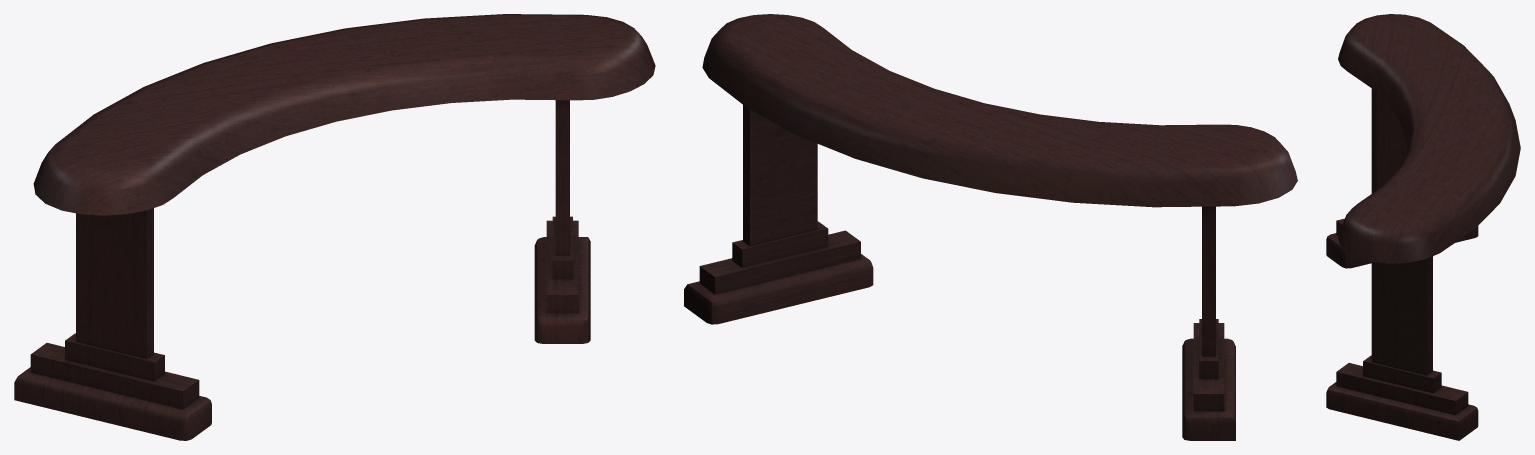
Rendered from NNJ0810007.fbx.
The picture shows the model from 3 angles, left to right: view 1: azimuth 30°, elevation 25°; view 2: azimuth 150°, elevation 25°; view 3: azimuth 270°, elevation 25°; orthographic projection. The views are drawn at different scales.
Parts seen in each view (by area): view 1: smNNJ0810007; view 2: smNNJ0810007; view 3: smNNJ0810007.
Boxes of the visible parts, bbox=[...] form: smNNJ0810007: bbox=[14, 14, 655, 440]; smNNJ0810007: bbox=[684, 14, 1297, 440]; smNNJ0810007: bbox=[1326, 14, 1520, 440].
Bounding box in the file's own units: 251 × 106 × 89.42.
Materials: 1 (1 with a texture image).
